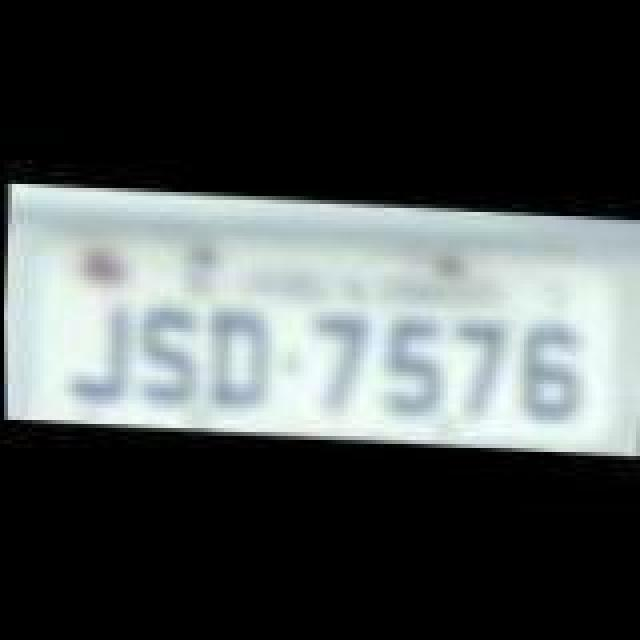5: (376, 312, 448, 420)
6: (506, 318, 590, 426)
7: (442, 318, 510, 422), (298, 310, 366, 414)
D: (200, 304, 272, 412)
J: (66, 298, 134, 406)
S: (136, 302, 200, 410)
